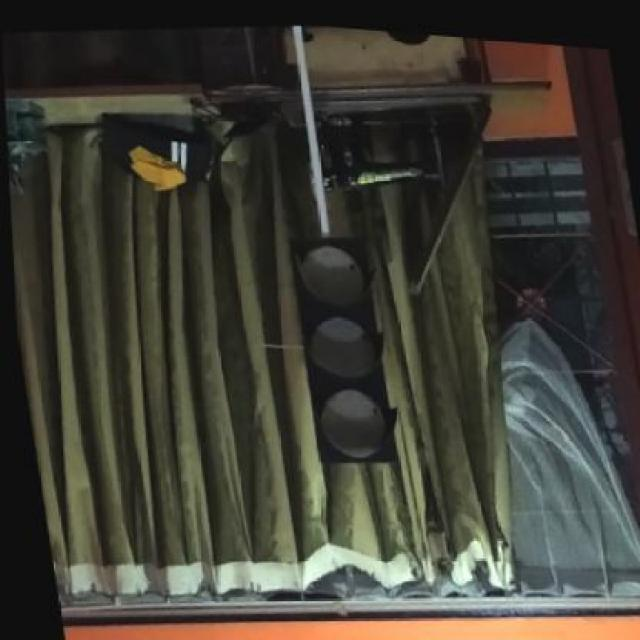green_light: (279, 226, 396, 465)
